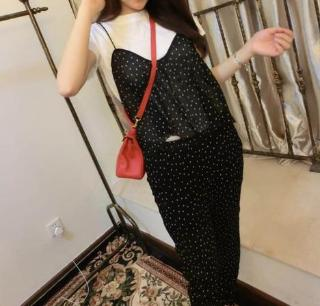sling dress: (97, 3, 236, 157)
trousers: (137, 121, 244, 306)
